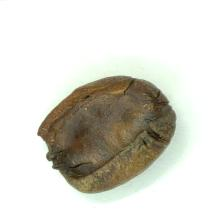NG: (48, 86, 157, 168)
